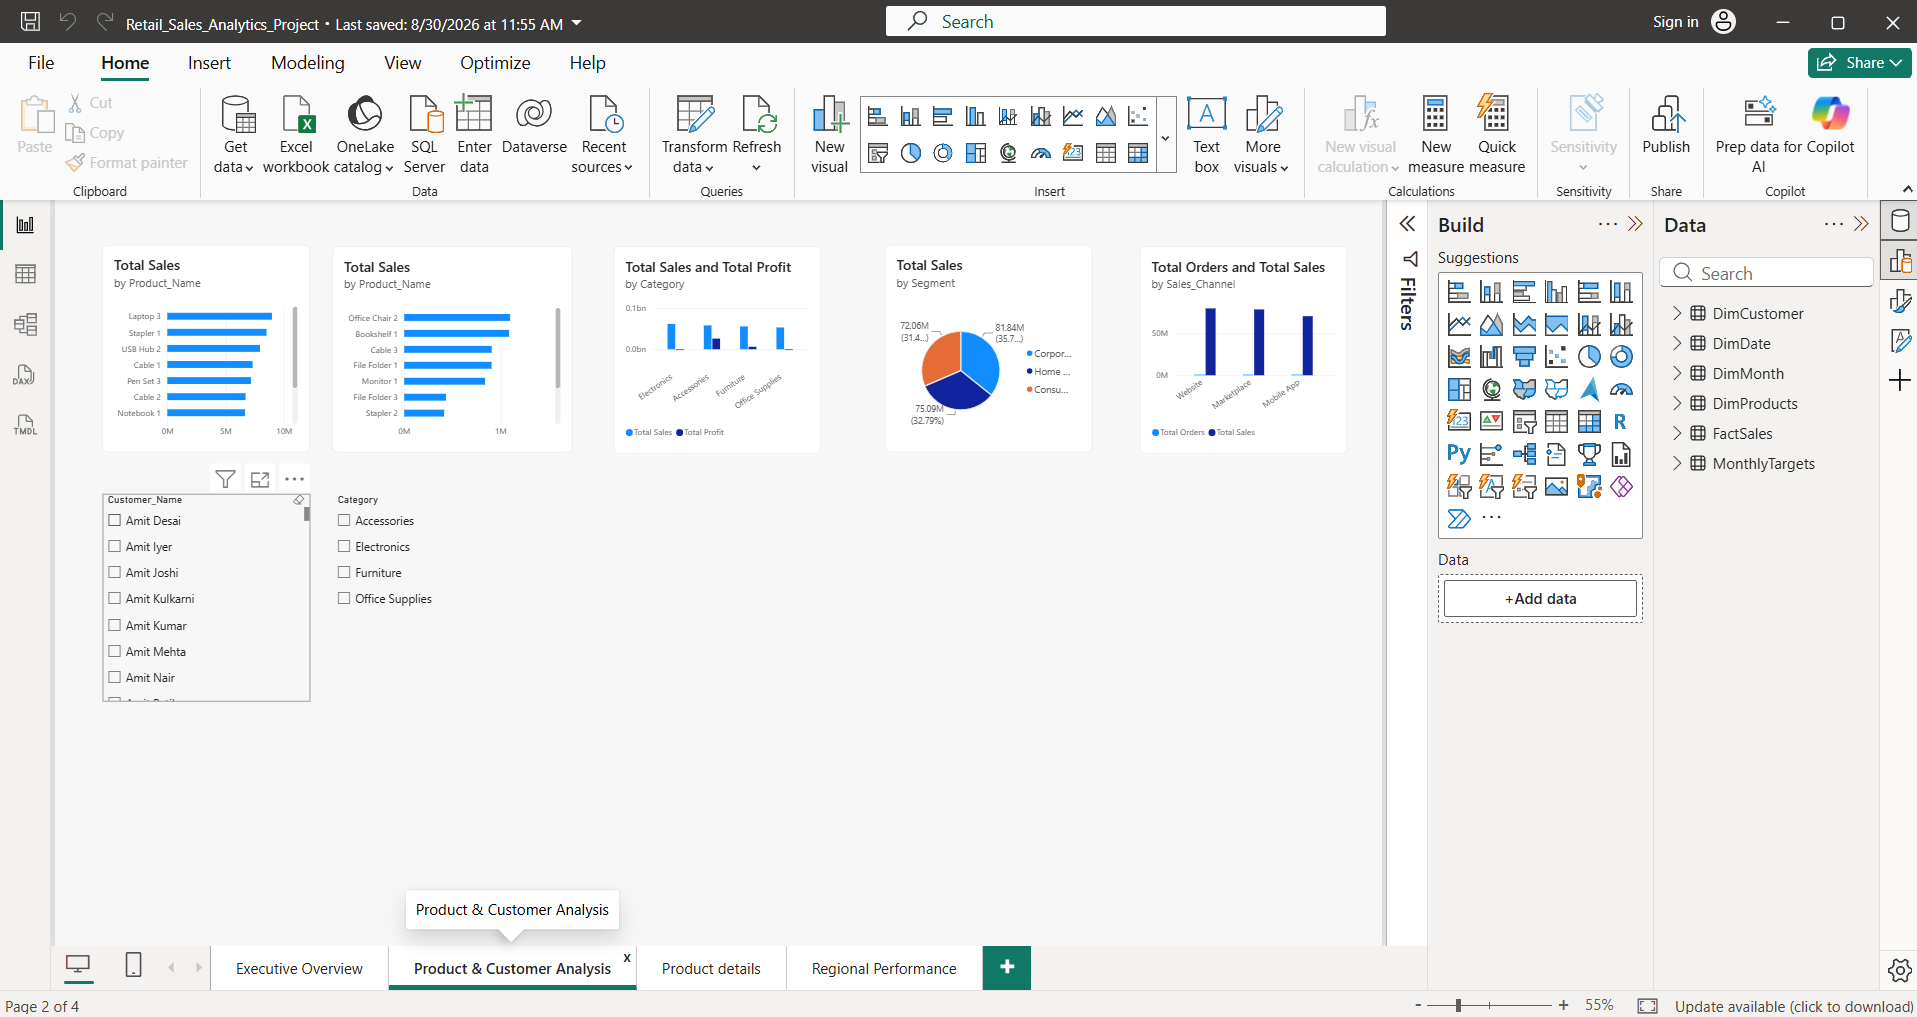

Layout of this report page (visuals, bound fields, positions):
{"tool":"powerbi","page":{"name":"Product & Customer Analysis","canvas":[1920,1080],"ordinal":1},"visuals":[{"type":"clusteredBarChart","fields":{"Category":["DimProducts.Product_Name"],"Y":["FactSales.Total Sales"]},"box":[68.8,65.1,300,300],"z":0},{"type":"clusteredBarChart","fields":{"Category":["DimProducts.Product_Name"],"Y":["FactSales.Total Sales"]},"box":[401.7,67,347.5,298.6],"z":1},{"type":"clusteredColumnChart","fields":{"Category":["DimProducts.Category"],"Y":["FactSales.Total Sales","FactSales.Total Profit"]},"box":[808.9,67,300,300],"z":2},{"type":"pieChart","fields":{"Category":["DimCustomer.Segment"],"Y":["FactSales.Total Sales"]},"box":[1201.6,65.1,300,300],"z":3},{"type":"clusteredColumnChart","fields":{"Category":["FactSales.Sales_Channel"],"Y":["FactSales.Total Orders","FactSales.Total Sales"]},"box":[1570.8,67,300,300],"z":4},{"type":"slicer","fields":{"Values":["DimCustomer.Customer_Name"]},"box":[68.8,425.3,300,300],"z":5},{"type":"slicer","fields":{"Values":["DimProducts.Category"]},"box":[401.7,425.3,300,300],"z":6}]}

Visuals, with their boxes on the page's 1920x1080 design canvas (x1, y1, x2, y2). These are canvas units, not pixel positions in the 1917x1017 screenshot, which may show the page scaled, cropped or inside an application window:
clusteredBarChart - DimProducts.Product_Name x FactSales.Total Sales: locate(69, 65, 369, 365)
clusteredBarChart - DimProducts.Product_Name x FactSales.Total Sales: locate(402, 67, 749, 366)
clusteredColumnChart - DimProducts.Category x FactSales.Total Sales: locate(809, 67, 1109, 367)
pieChart - DimCustomer.Segment x FactSales.Total Sales: locate(1202, 65, 1502, 365)
clusteredColumnChart - FactSales.Sales_Channel x FactSales.Total Orders: locate(1571, 67, 1871, 367)
slicer - DimCustomer.Customer_Name: locate(69, 425, 369, 725)
slicer - DimProducts.Category: locate(402, 425, 702, 725)
